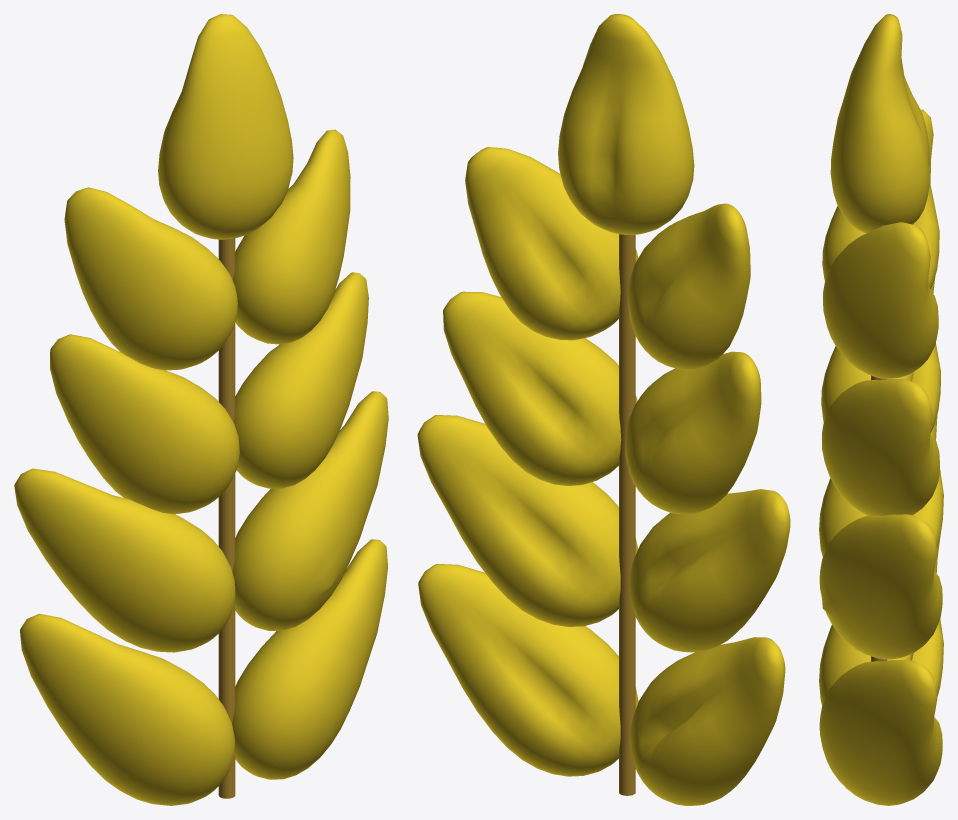
File: wheat_item.fbx
The picture shows the model from 3 angles, left to right: view 1: azimuth 30°, elevation 25°; view 2: azimuth 150°, elevation 25°; view 3: azimuth 270°, elevation 25°; orthographic projection. The views are drawn at different scales.
Parts seen in each view (by area): view 1: Sphere.008; view 2: Sphere.008; view 3: Sphere.008.
Part boxes in pixels (x1,y1,x2,y2): Sphere.008: (14, 14, 388, 805); Sphere.008: (417, 14, 790, 805); Sphere.008: (819, 14, 943, 805).
Size of the model in its own units: 25.53 by 51.43 by 7.62.
